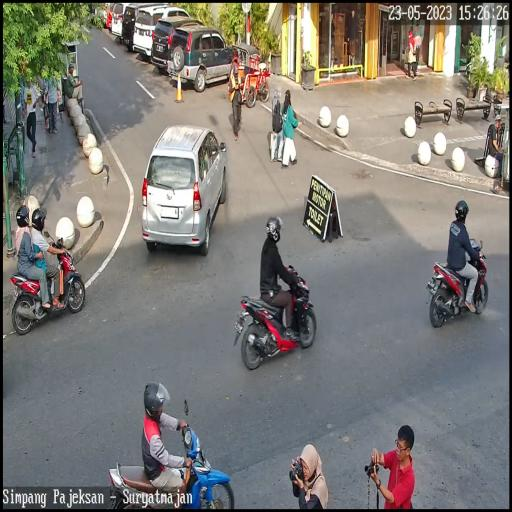mobil: (142, 123, 229, 254), (166, 25, 240, 94), (132, 6, 197, 59), (155, 18, 208, 74)
motor: (104, 391, 241, 512), (235, 260, 318, 368), (9, 228, 88, 329), (427, 230, 488, 330)
